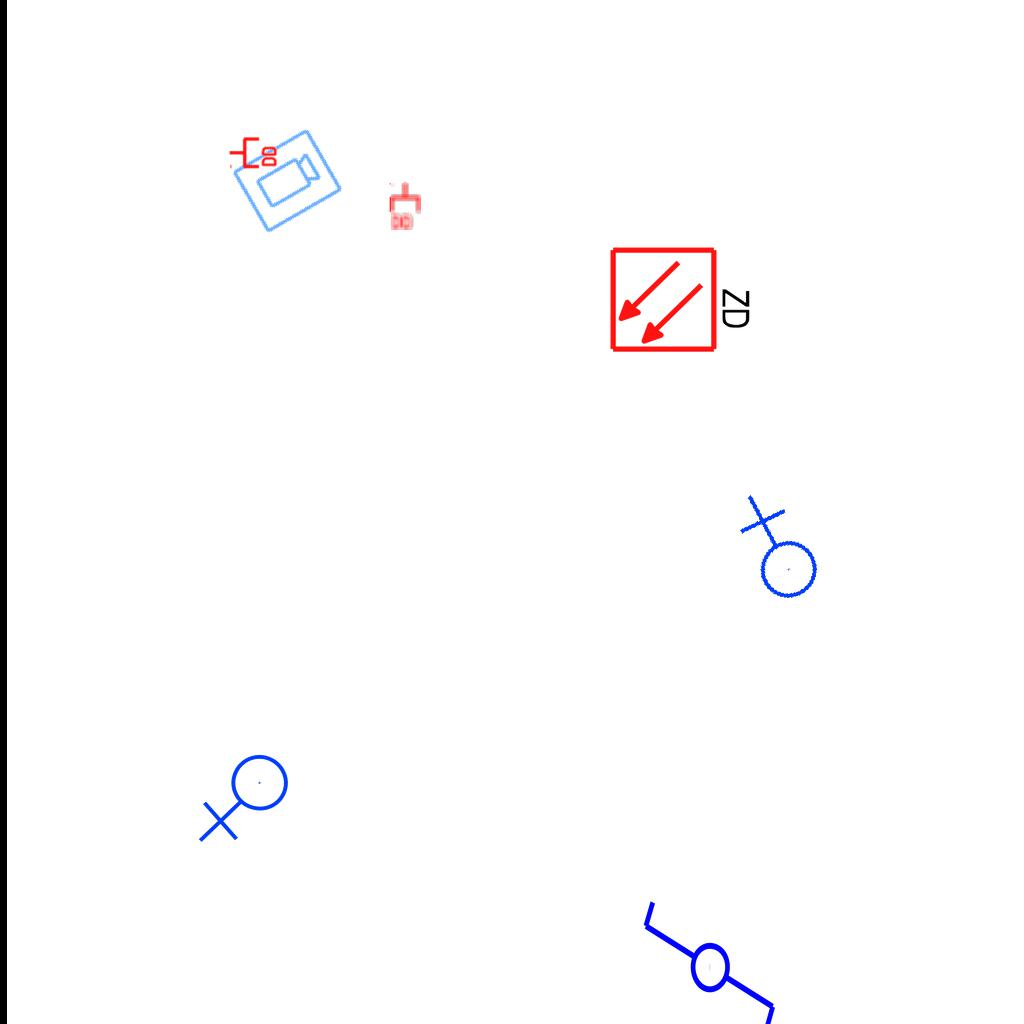Datenanschluss_zweifach: (389, 181, 423, 232), (228, 135, 279, 169)
Elektroanschluss_allgemein_230V_Geraeteanschlussdose_230V: (716, 492, 835, 614), (198, 753, 297, 847)
KFO_Kamera_mit_Festobjektiv: (228, 125, 347, 238)
Wechselschalter: (636, 897, 780, 1024)
ZD_Melder_in_Zwischendecke_mit_Revisionsoeffnung_mind_40_x_40_cm: (608, 241, 757, 355)
